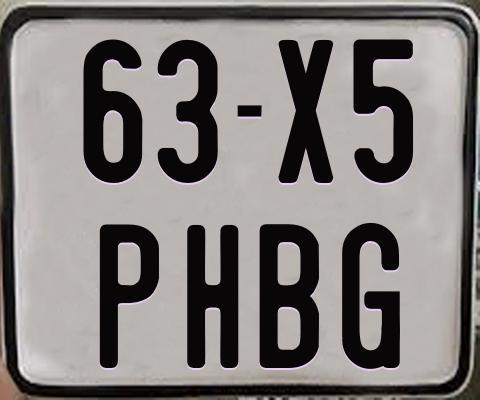3: (158, 40, 220, 189)
5: (353, 36, 414, 185)
6: (80, 39, 145, 185)
B: (259, 223, 325, 373)
G: (341, 222, 401, 372)
H: (187, 223, 239, 368)
P: (99, 222, 163, 370)
X: (275, 38, 335, 182)
